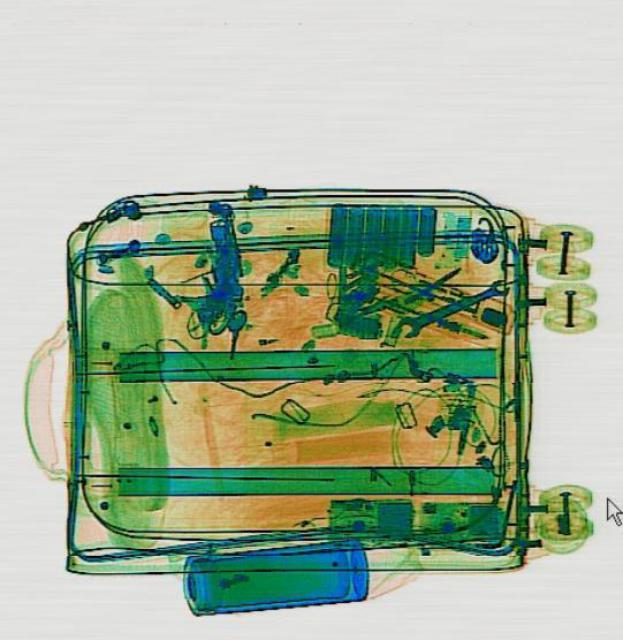Wrench: (392, 273, 510, 339)
